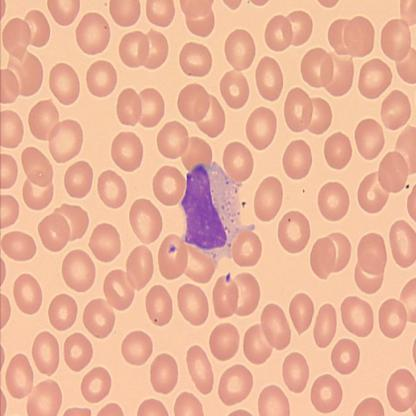Atypical lymphocyte: (181, 160, 248, 266)
